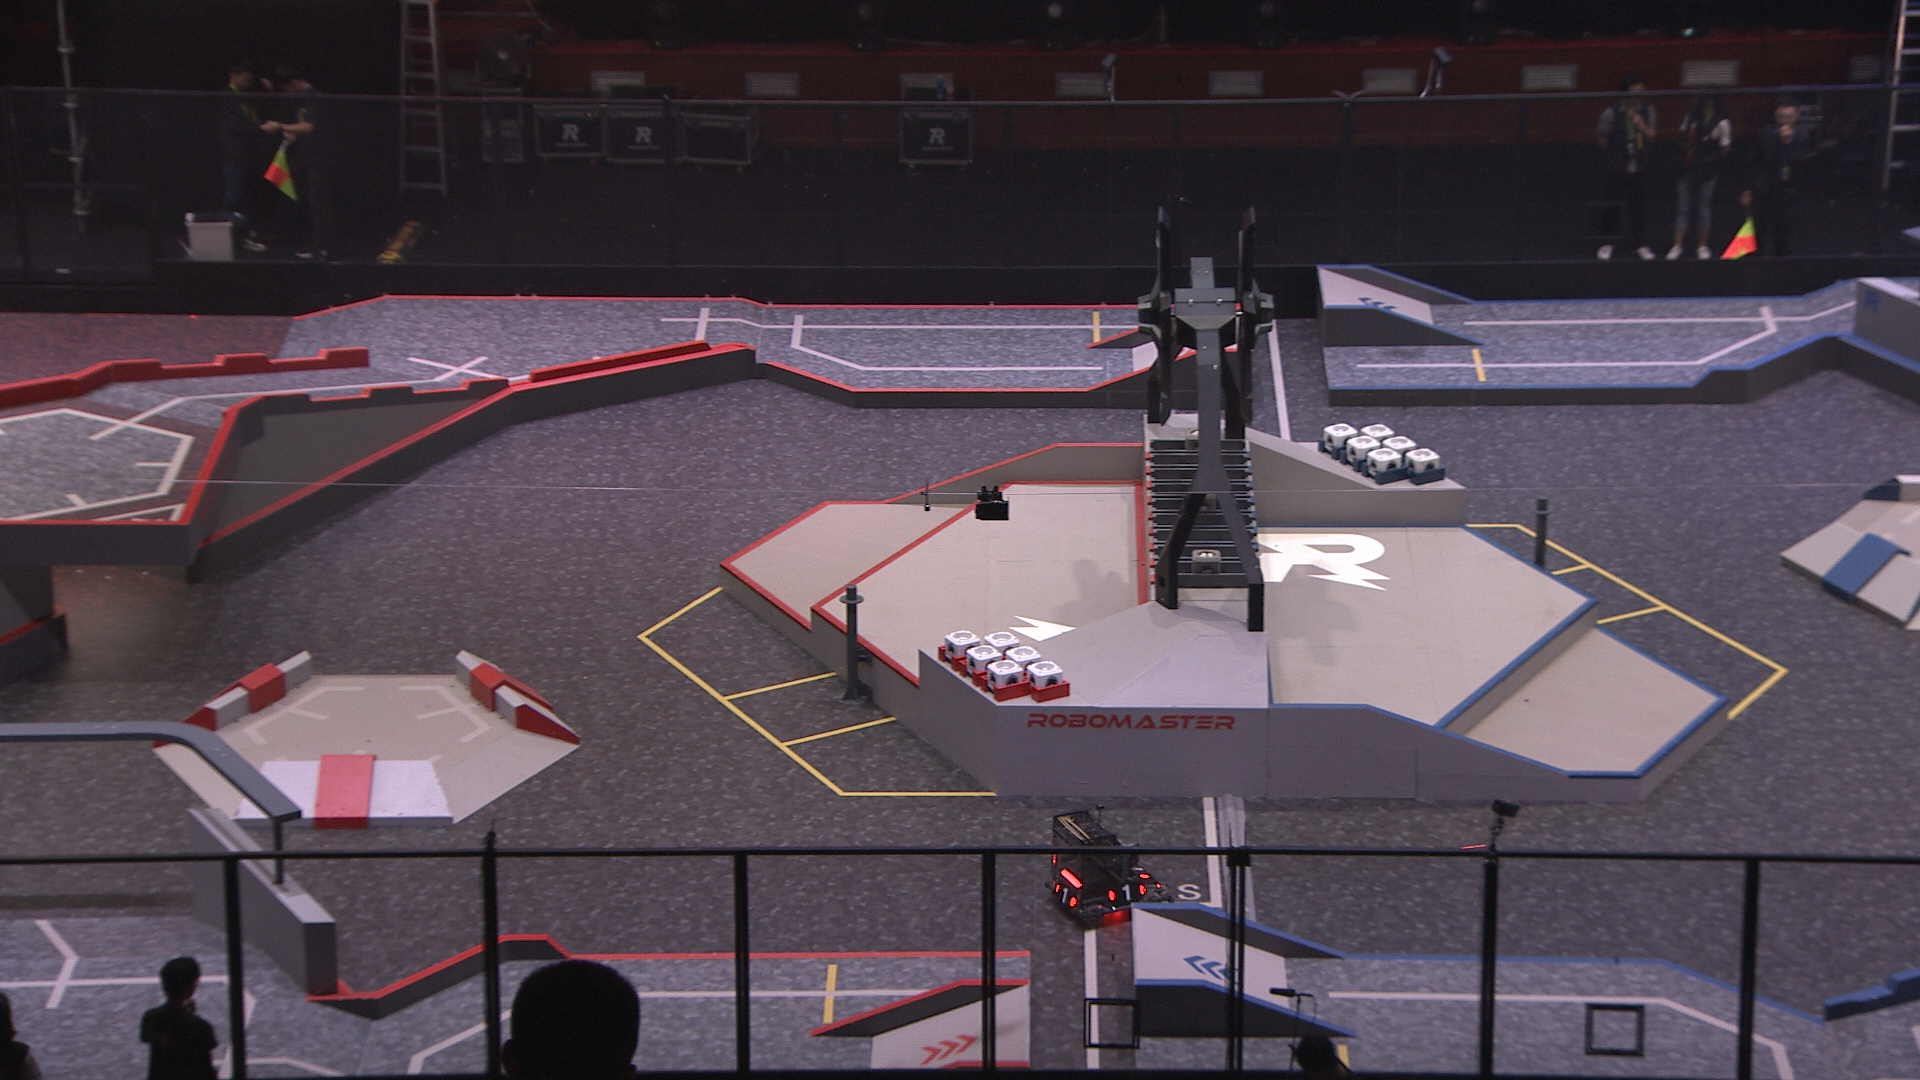armor: (1106, 880, 1147, 910), (1048, 884, 1081, 913), (1126, 860, 1153, 884)
car: (1034, 808, 1168, 928)
